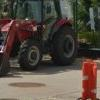Tractor: (2, 8, 80, 82)
